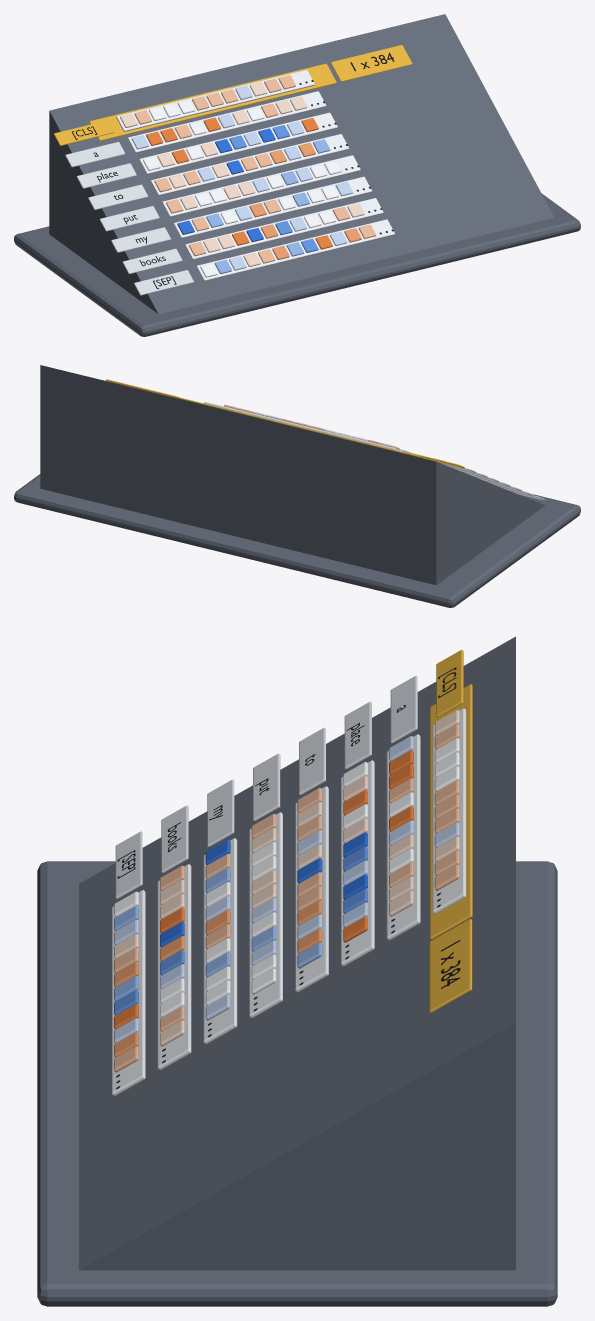
Rendered from pooling.glb.
3 renders of one model, top to bottom at view 1: azimuth 30°, elevation 25°; view 2: azimuth 150°, elevation 25°; view 3: azimuth 270°, elevation 25°, orthographic. The views are drawn at different scales.
Visible parts, largest first — view 1: slope, stand, v4, v7, v0, v1, v6, v2, v5, v3, hl, v2_bar (+16 smaller); view 2: slope, stand, hl, v0_bar, v0; view 3: slope, stand, v4, v5, v3, v0, v6, v1, v7, v2, hl, out_p (+16 smaller).
Part boxes in pixels (x1,y1,x2,y2): slope: (49, 14, 554, 314); stand: (14, 193, 580, 336); v4: (166, 160, 341, 213); v7: (200, 224, 376, 277); v0: (120, 75, 295, 127); v1: (131, 96, 307, 149); v6: (188, 203, 364, 256); v2: (143, 118, 318, 170); v5: (177, 182, 353, 234); v3: (154, 139, 330, 192); hl: (89, 63, 336, 140); v2_bar: (139, 112, 337, 174); slope: (40, 365, 544, 585); stand: (14, 474, 580, 607); hl: (181, 398, 424, 458); v0_bar: (204, 401, 402, 451); v0: (224, 404, 399, 449); slope: (79, 636, 515, 1270); stand: (37, 861, 557, 1306); v4: (251, 813, 276, 994); v5: (205, 839, 230, 1020); v3: (297, 788, 322, 968); v0: (434, 710, 459, 890); v6: (160, 865, 184, 1046); v1: (389, 736, 413, 916); v7: (114, 891, 138, 1072); v2: (343, 762, 367, 942); hl: (430, 684, 472, 939); out_p: (429, 919, 472, 1012).
Size of the model in its own units: 1.23 by 0.3585 by 0.6258.
